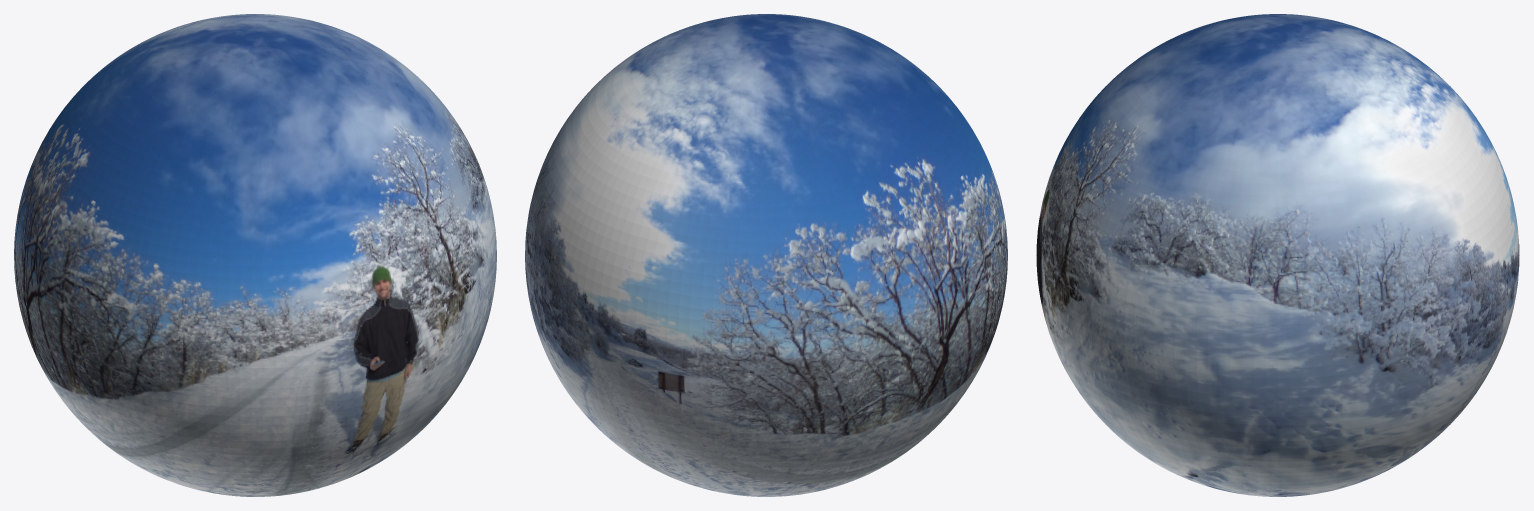
The model's file is panorama.obj.
The picture shows the model from 3 angles, left to right: view 1: azimuth 30°, elevation 25°; view 2: azimuth 150°, elevation 25°; view 3: azimuth 270°, elevation 25°; orthographic projection.
Visible parts, largest first — view 1: InnerShellOuterSurface_Sphere.002; view 2: InnerShellOuterSurface_Sphere.002; view 3: InnerShellOuterSurface_Sphere.002.
Part boxes in pixels (<box>): InnerShellOuterSurface_Sphere.002: <box>14,14,496,496</box>; InnerShellOuterSurface_Sphere.002: <box>525,14,1007,496</box>; InnerShellOuterSurface_Sphere.002: <box>1036,14,1519,496</box>.
Size of the model in its own units: 48.5 by 47.3 by 48.5.
